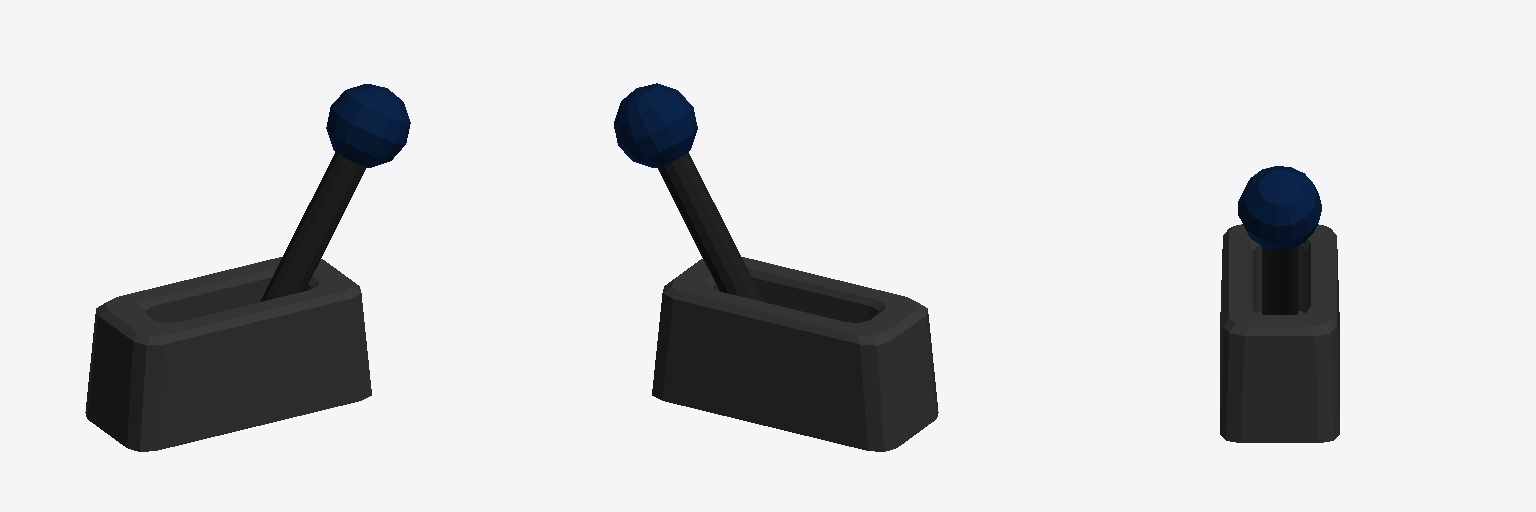
File: Lever.obj
The picture shows the model from 3 angles: view 1: azimuth 30°, elevation 25°; view 2: azimuth 150°, elevation 25°; view 3: azimuth 270°, elevation 25°; orthographic projection.
Parts seen in each view (by area): view 1: Lever_Cylinder.001; view 2: Lever_Cylinder.001; view 3: Lever_Cylinder.001.
Part boxes in pixels (x1,y1,x2,y2): Lever_Cylinder.001: (85,84,410,451); Lever_Cylinder.001: (614,83,938,451); Lever_Cylinder.001: (1220,166,1339,442).
Bounding box in the file's own units: 1.45 × 1.31 × 0.5072.